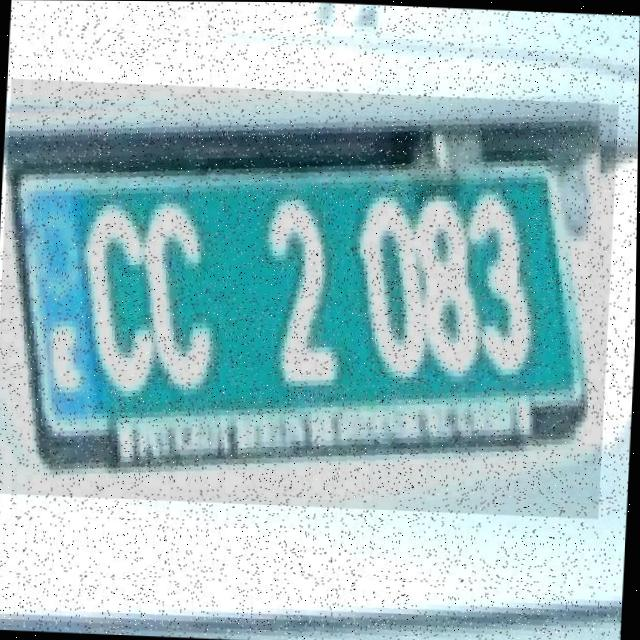LicensePlate: (0, 78, 619, 518)
